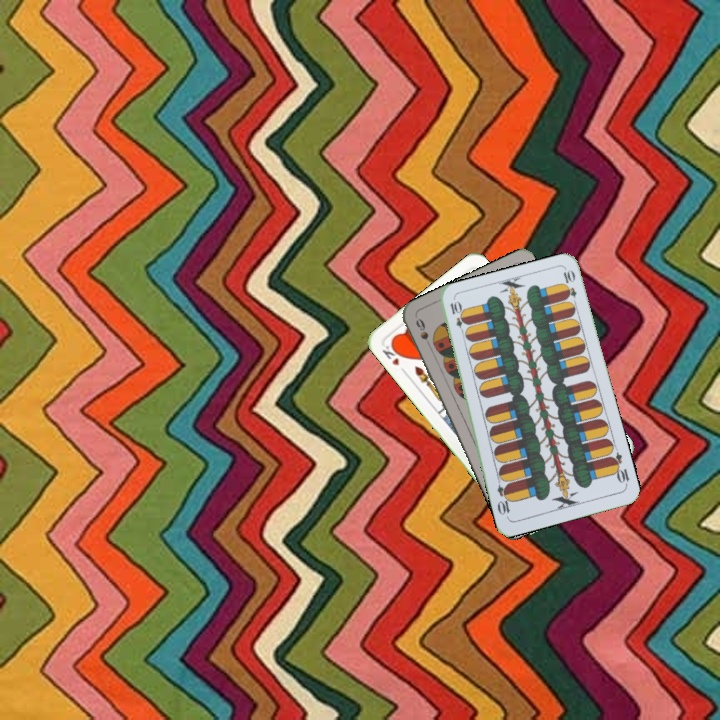E10: (606, 449, 632, 489), (446, 297, 468, 337)
HK: (378, 338, 409, 376)
S9: (412, 314, 435, 353)
